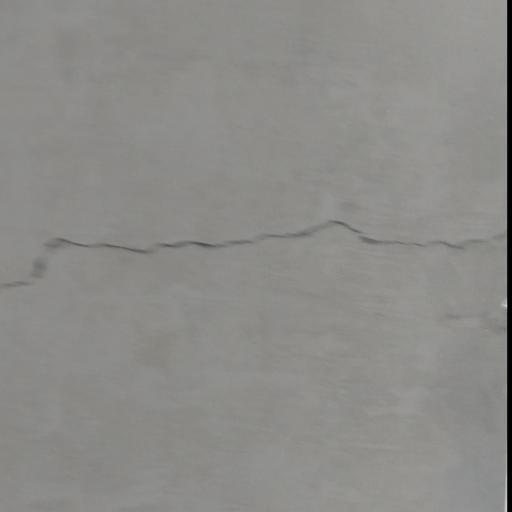minor_crack: (0, 208, 512, 306)
